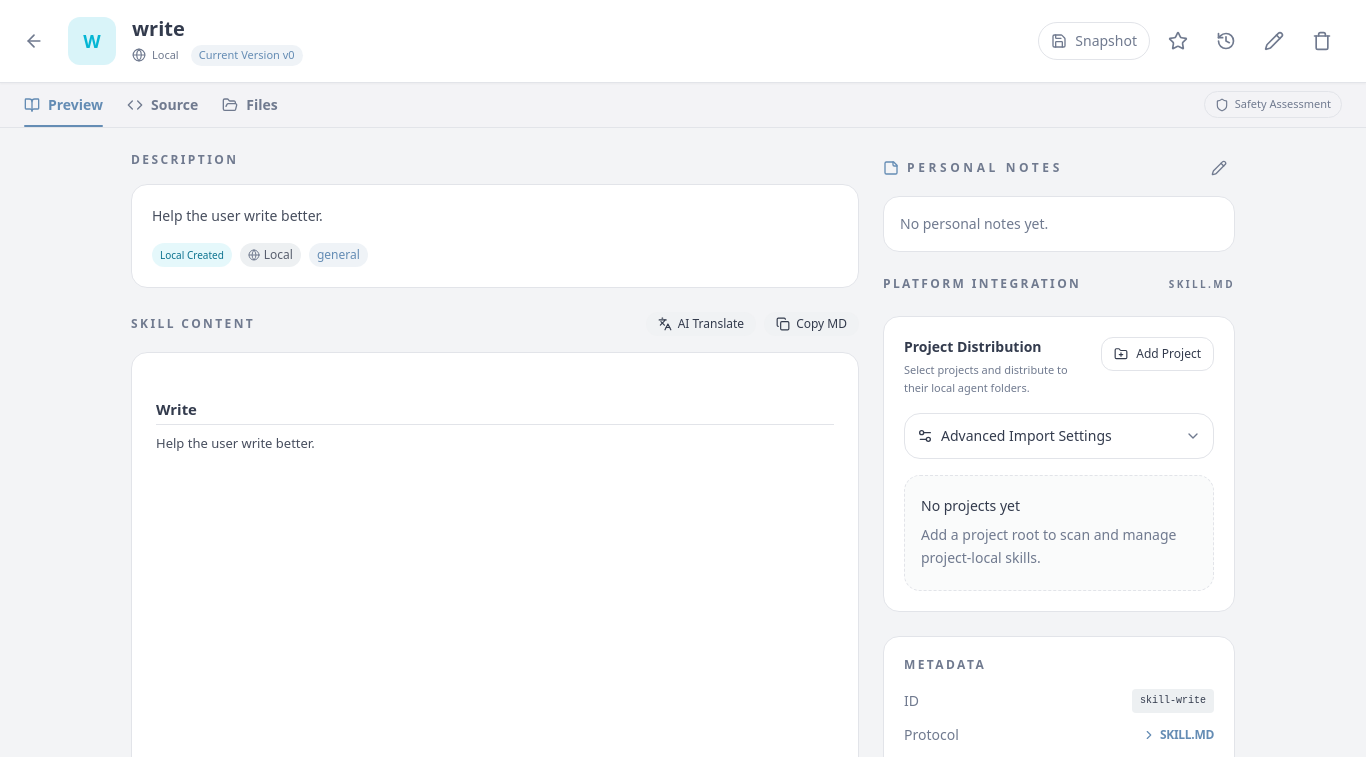
skill ui integration › creates a snapshot from the detail page through the in-app modal
The image size is (1366, 757).
Click the button "Snapshot": (1094, 41) [1038,22,1150,60]
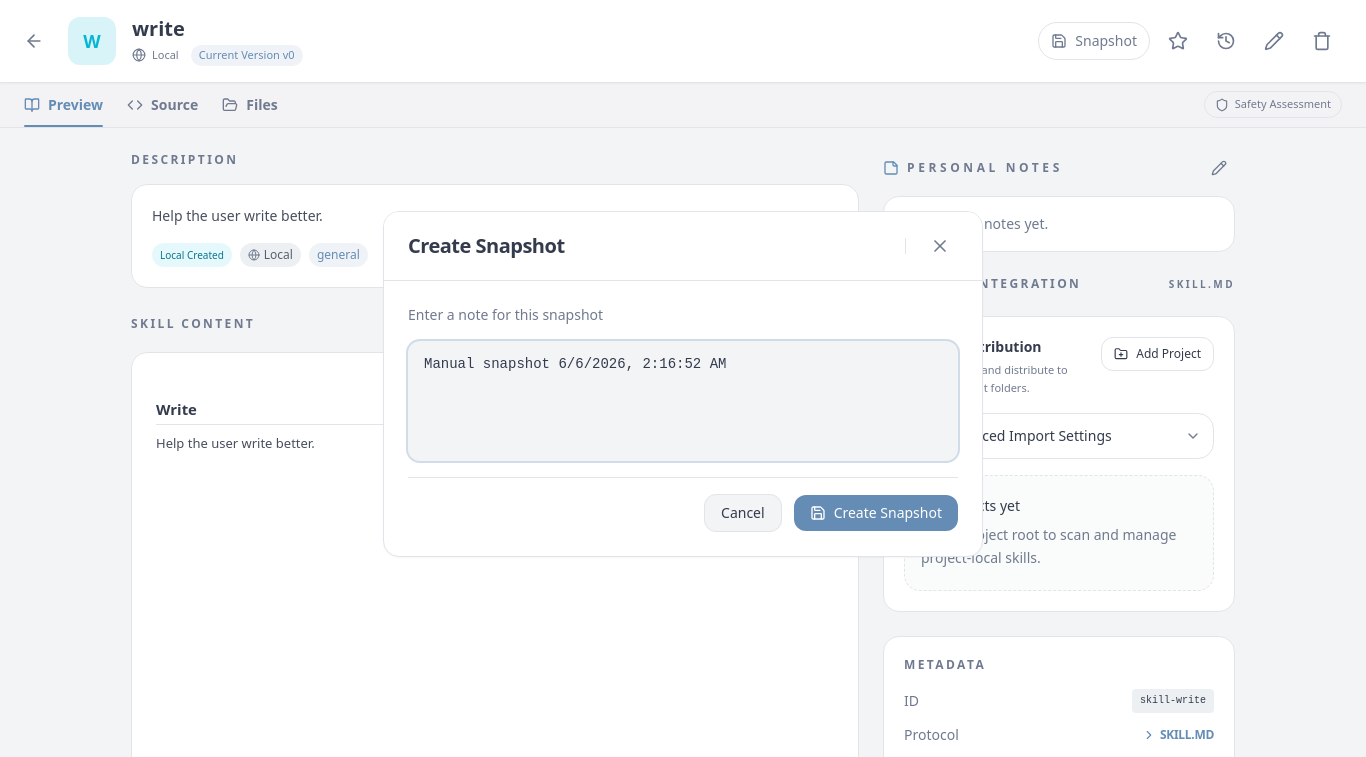
Now the heading "Create Snapshot" is shown, box [408,232,565,259]
Now the text "Enter a note for this snapshot" is shown, box [408,305,603,324]
Replace the text in the text box with placeholder "Describe what changed..." with "Save the refreshed SKILL.md copy": (683, 401) [408,341,958,461]
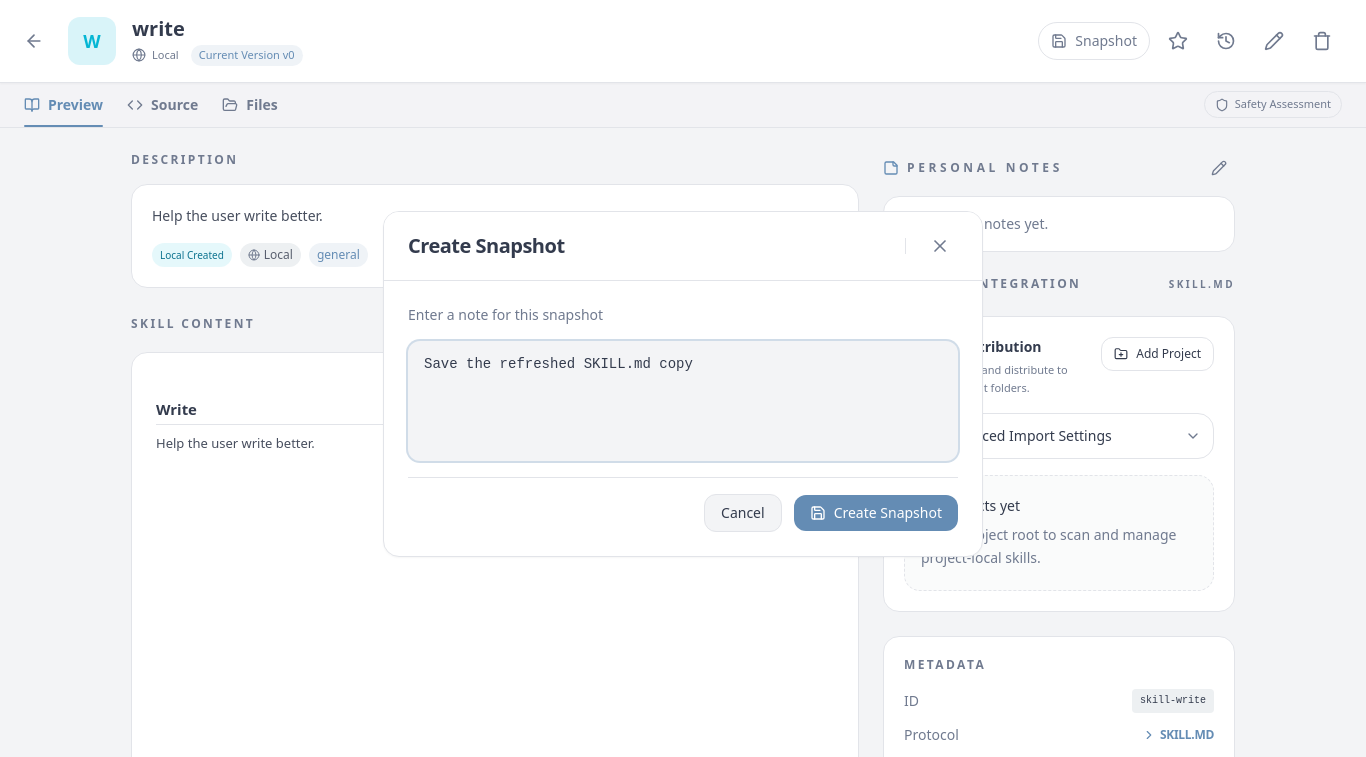
Click the button "Create Snapshot": (876, 513) [794,495,958,531]
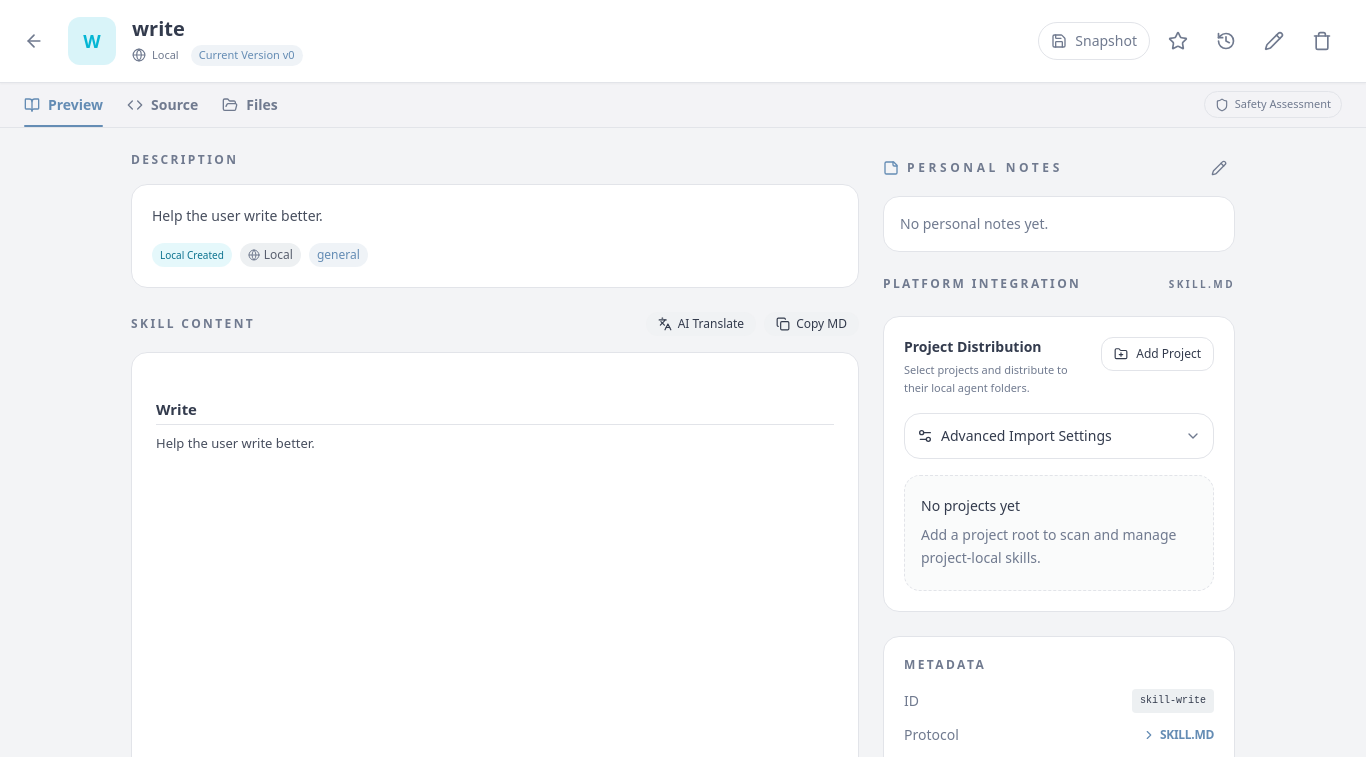
Now the heading "Create Snapshot" is gone
